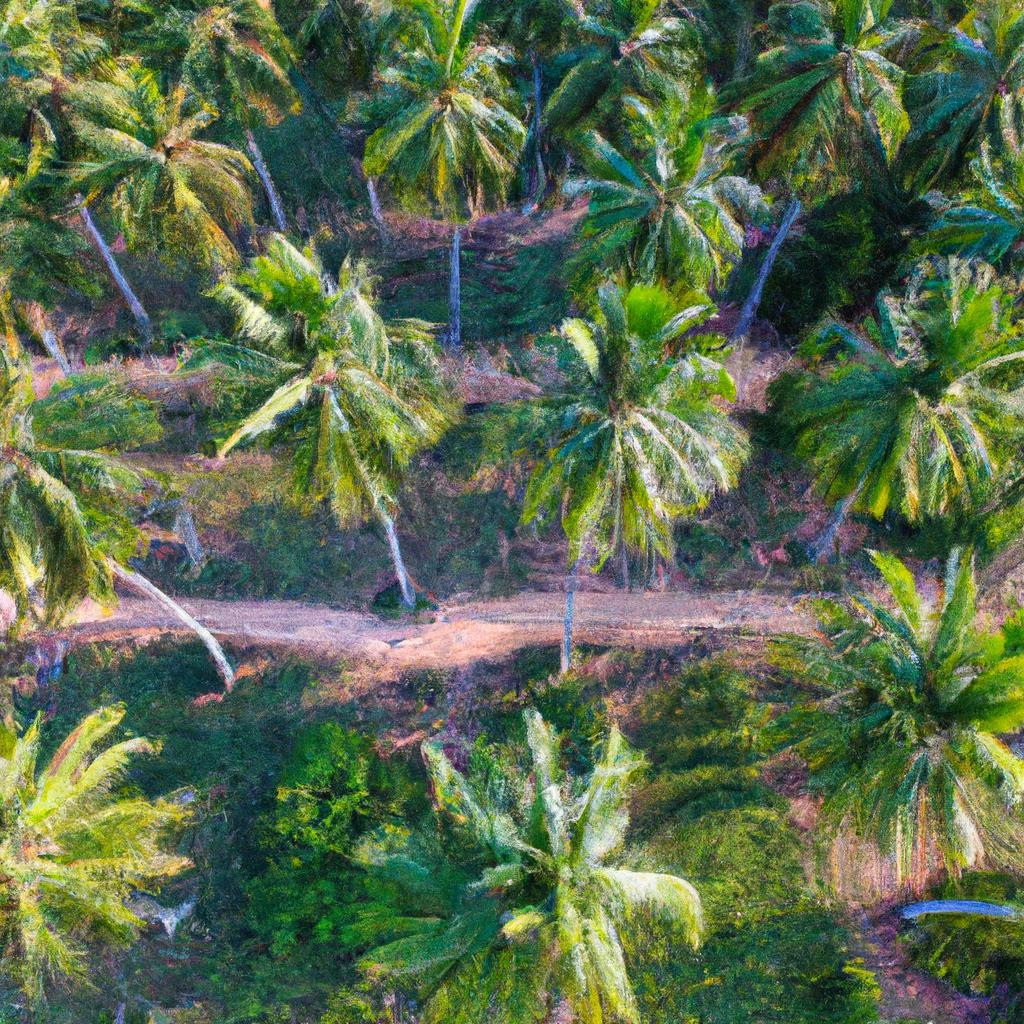coconut_tree: (370, 683, 728, 1023), (168, 234, 482, 564), (762, 537, 1023, 891), (497, 275, 771, 610), (757, 247, 1023, 533), (563, 70, 819, 301), (333, 13, 560, 218), (54, 58, 279, 248)
